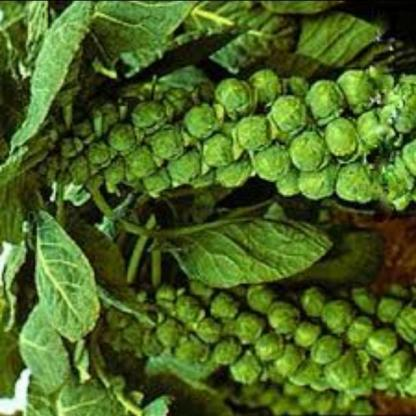brus capusta: (56, 54, 416, 228), (129, 254, 416, 416)
